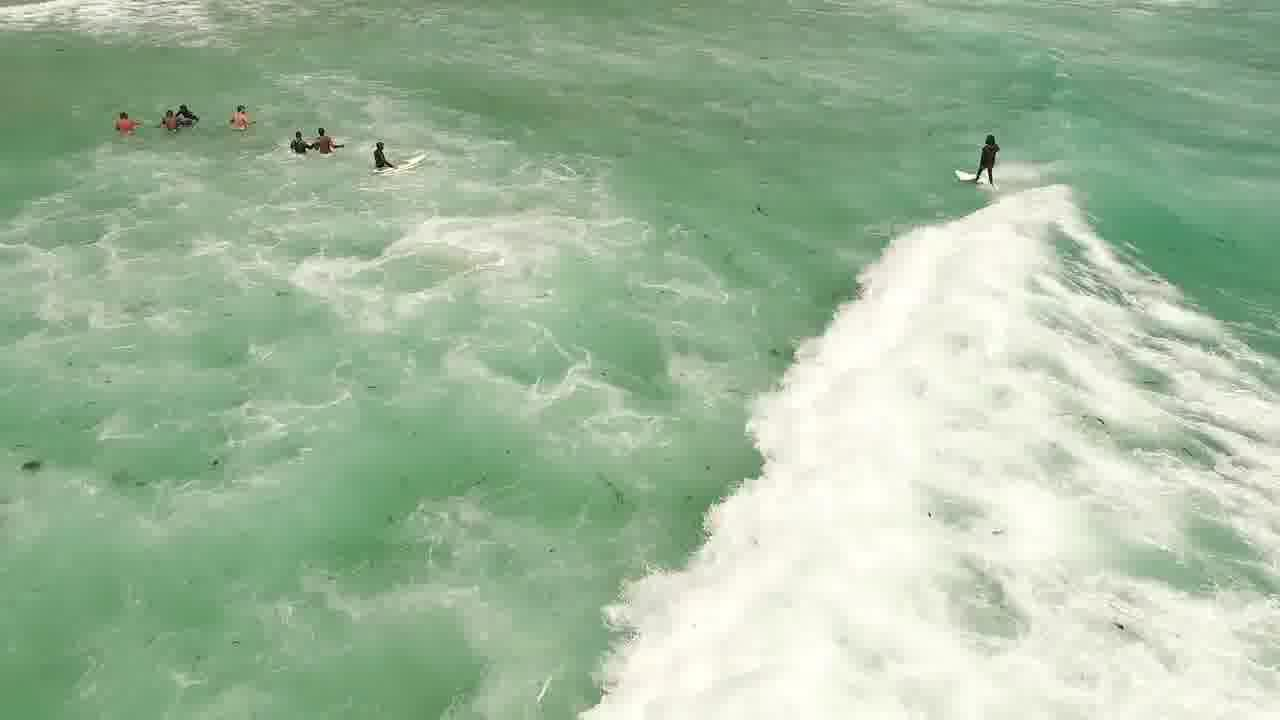human: (173, 87, 208, 125), (224, 100, 260, 134), (104, 100, 144, 130), (149, 101, 181, 134)
